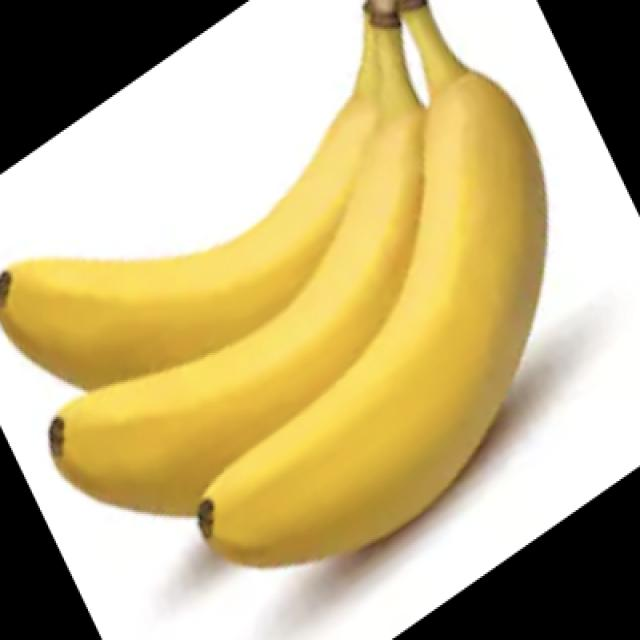god quality banana: (0, 0, 549, 567)
